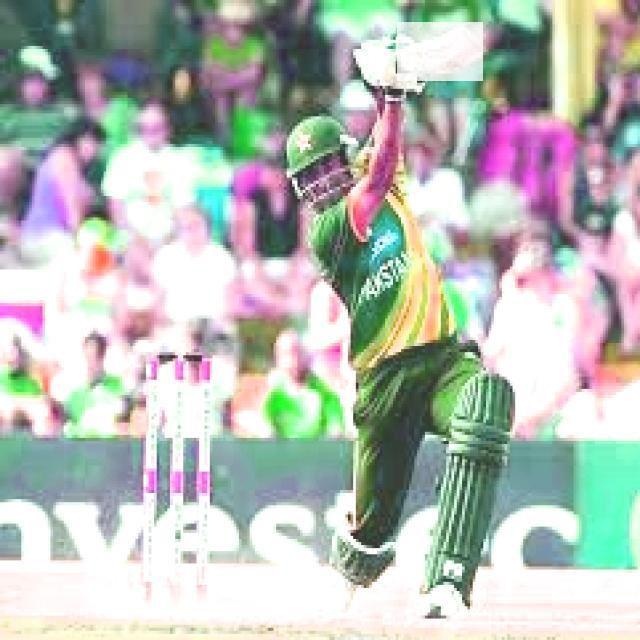bat: (398, 23, 486, 82)
toe: (459, 23, 484, 56)
